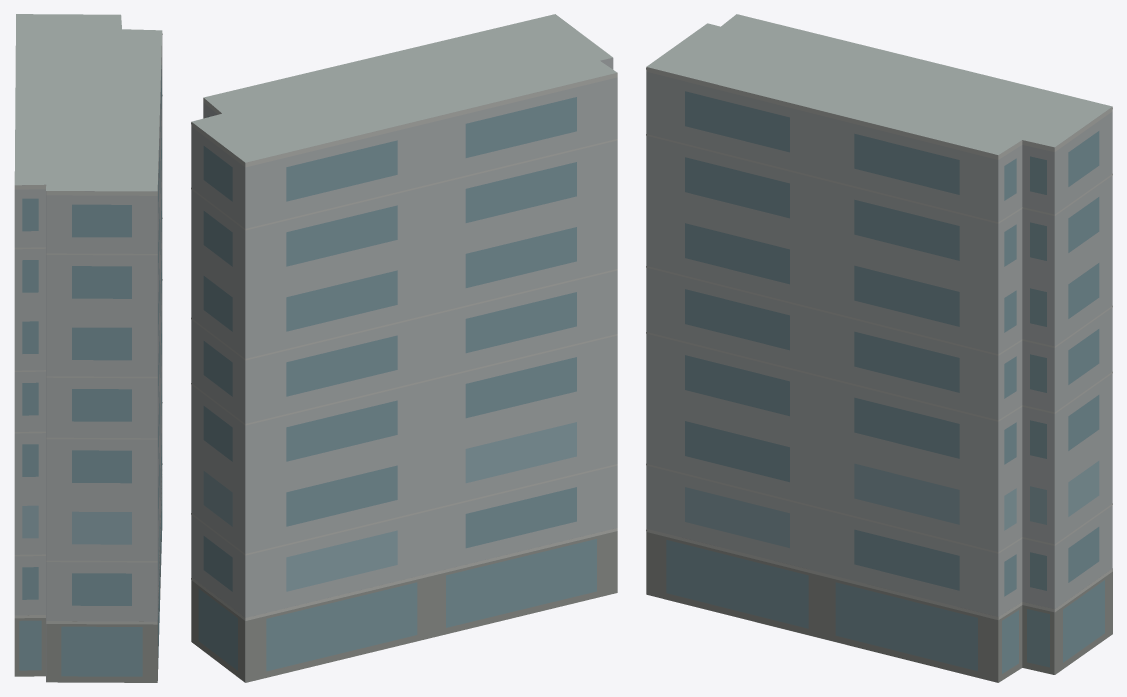
Rendered from survey-upis-32741473.glb.
The picture shows the model from 3 angles, left to right: view 1: azimuth 30°, elevation 25°; view 2: azimuth 150°, elevation 25°; view 3: azimuth 270°, elevation 25°; orthographic projection. The views are drawn at different scales.
Parts seen in each view (by area): view 1: survey-upis-32741473.tmp; view 2: survey-upis-32741473.tmp; view 3: survey-upis-32741473.tmp.
Part boxes in pixels (x1,y1,x2,y2): survey-upis-32741473.tmp: (14, 14, 162, 682); survey-upis-32741473.tmp: (191, 14, 617, 682); survey-upis-32741473.tmp: (646, 14, 1112, 682).
Bounding box in the file's own units: 15.43 × 26.85 × 21.53.
